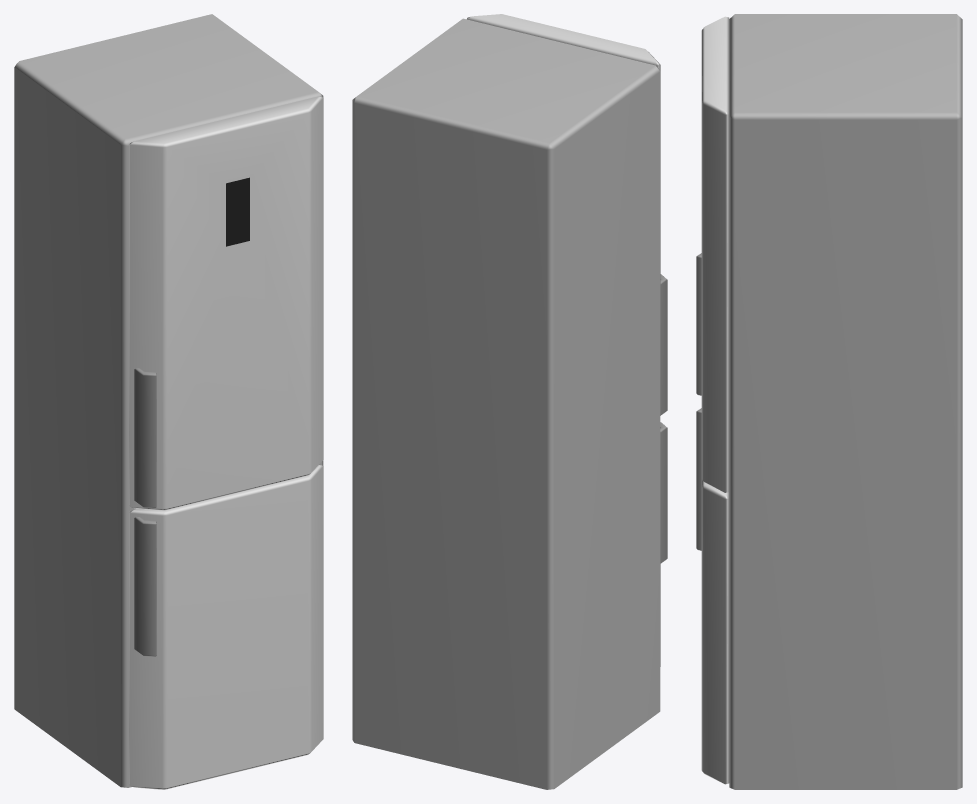
The model's file is kitchen_002.fbx.
3 views of the same model, side by side, from view 1: azimuth 30°, elevation 25°; view 2: azimuth 150°, elevation 25°; view 3: azimuth 270°, elevation 25° (orthographic). The views are drawn at different scales.
Parts seen in each view (by area): view 1: kitchen_002; view 2: kitchen_002; view 3: kitchen_002.
Boxes of the visible parts, bbox=[...] form: kitchen_002: bbox=[14, 14, 323, 789]; kitchen_002: bbox=[352, 14, 667, 789]; kitchen_002: bbox=[696, 14, 962, 789].
Size of the model in its own units: 84.76 by 92.35 by 259.
